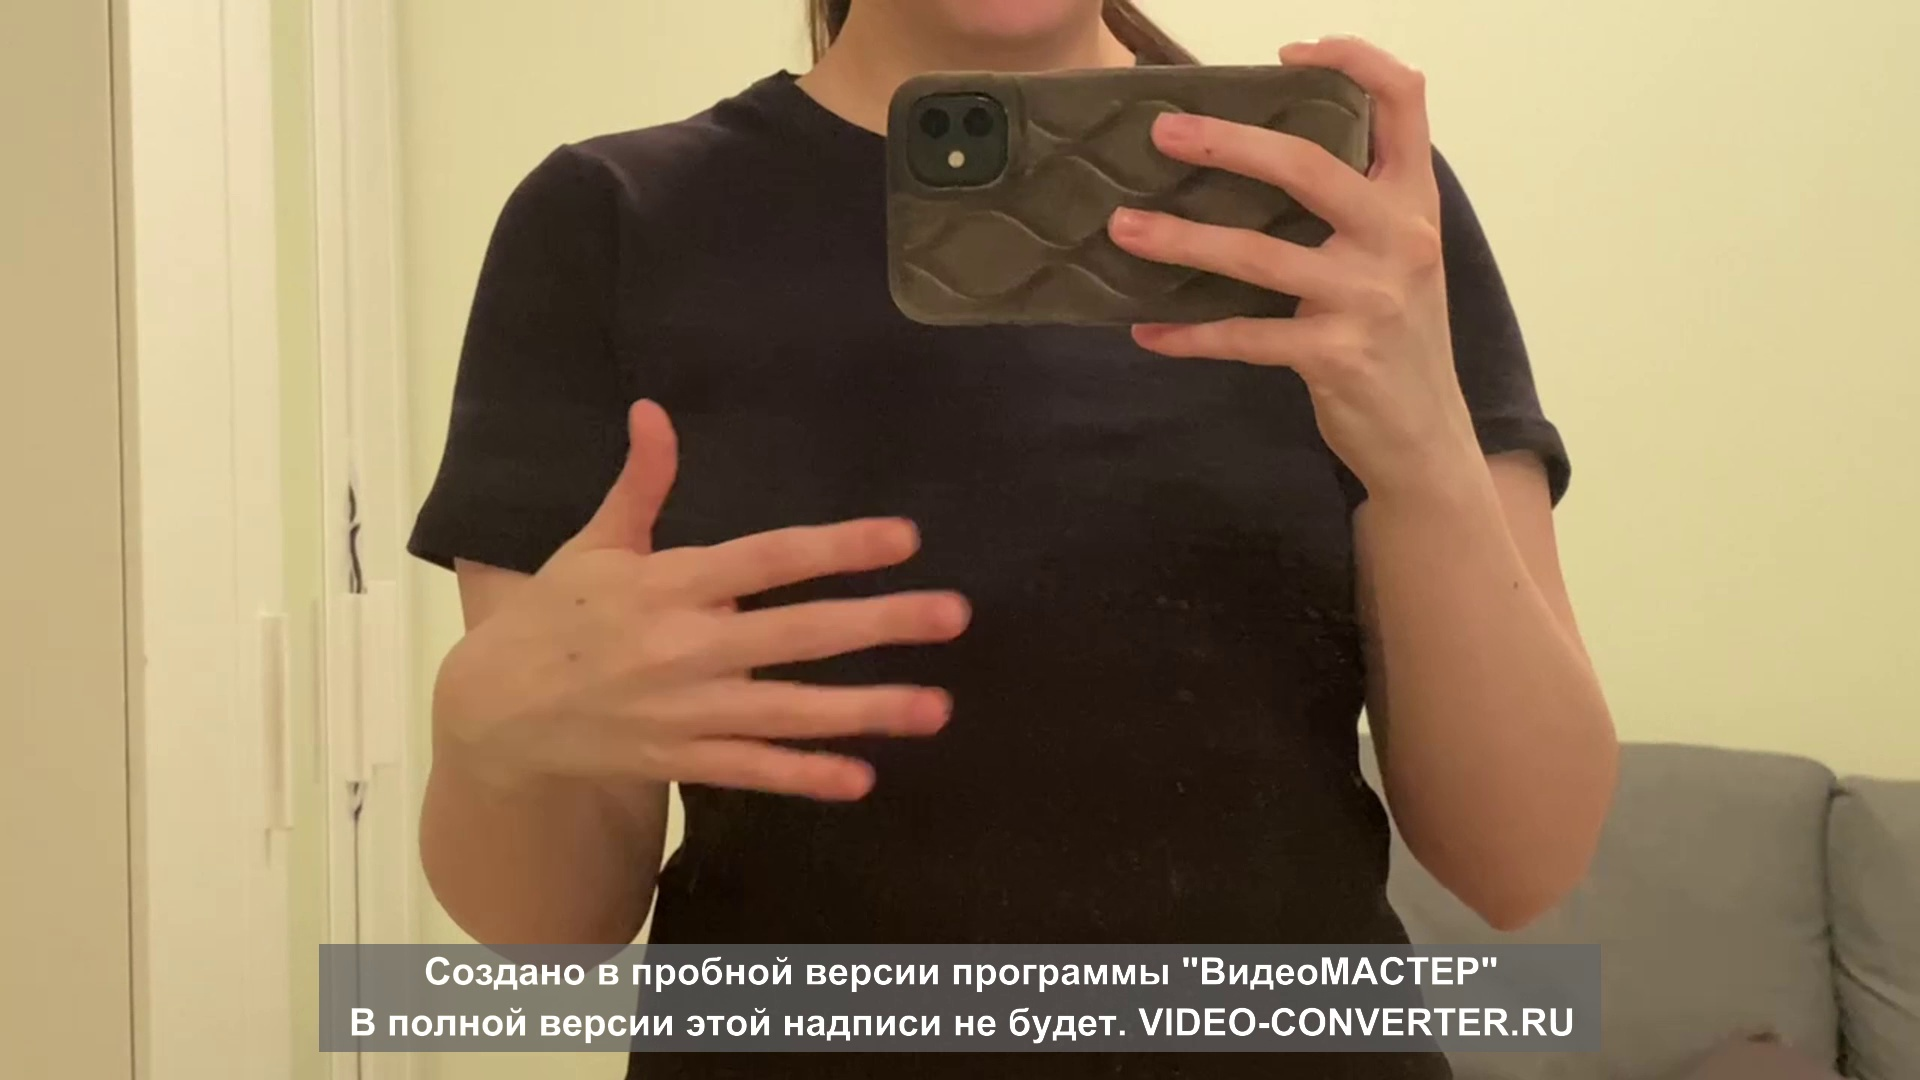Кисть: (431, 398, 964, 804)
